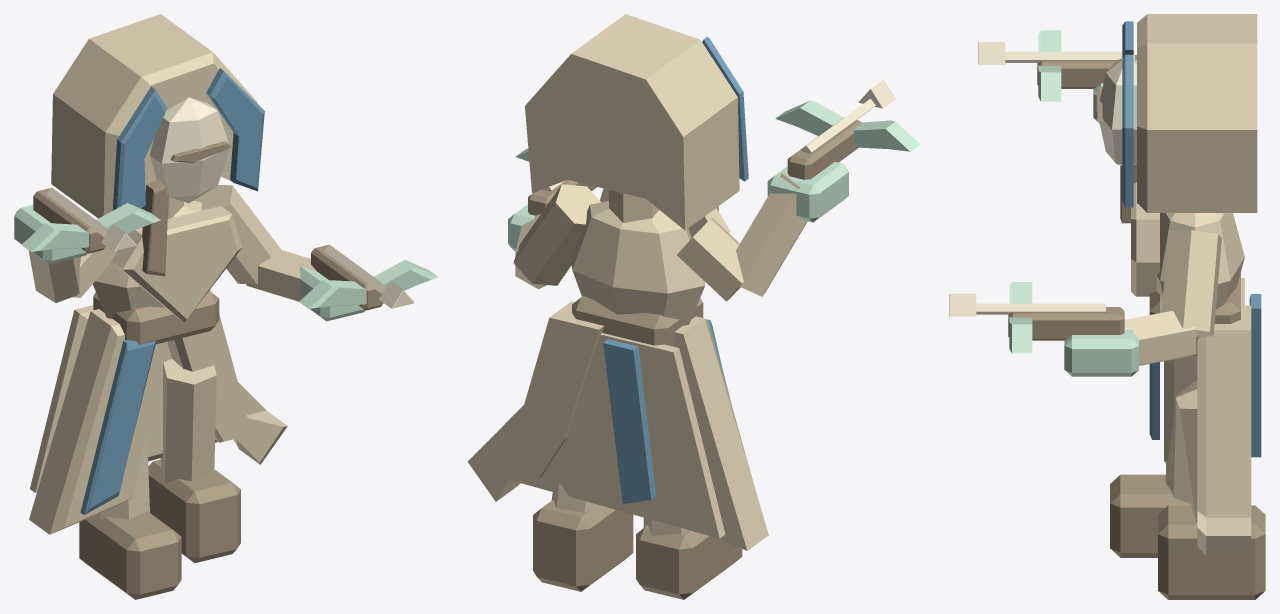
File: blockout-archer.glb
The picture shows the model from 3 angles, left to right: view 1: azimuth 30°, elevation 25°; view 2: azimuth 150°, elevation 25°; view 3: azimuth 270°, elevation 25°; orthographic projection. The views are drawn at different scales.
Parts seen in each view (by area): view 1: Hood, Skirt_L, Bodice, Boot_L.001, Boot_R.001, Leg_R, Skirt_R, Skirt_accent, Face, Hood_green_R, Back_cloth, Hood_green_L (+19 smaller); view 2: Hood, Back_cloth, Torso, Skirt_R, Skirt_L, Boot_R.001, Back_sash, Boot_L.001, Upper_arm_R, Forearm_L, Upper_arm_L, Waist (+9 smaller); view 3: Hood, Skirt_R, Boot_R.001, Upper_arm_R, Boot_L.001, Torso, Cuff_R, Forearm_R, Crossbow_stock_R, Bodice, Face, Hood_green_R (+13 smaller).
Part boxes in pixels (x1=…): Hood: x1=51, y1=14, x2=257, y2=218; Skirt_L: x1=29, y1=309, x2=167, y2=534; Bodice: x1=111, y1=206, x2=242, y2=322; Boot_L.001: x1=79, y1=511, x2=181, y2=599; Boot_R.001: x1=148, y1=459, x2=240, y2=562; Leg_R: x1=160, y1=359, x2=216, y2=483; Skirt_R: x1=167, y1=290, x2=287, y2=464; Skirt_accent: x1=80, y1=340, x2=156, y2=514; Face: x1=150, y1=97, x2=229, y2=203; Hood_green_R: x1=206, y1=68, x2=264, y2=191; Back_cloth: x1=30, y1=305, x2=217, y2=492; Hood_green_L: x1=112, y1=86, x2=166, y2=210; Hood: x1=525, y1=14, x2=739, y2=230; Back_cloth: x1=510, y1=333, x2=725, y2=538; Torso: x1=570, y1=200, x2=705, y2=325; Skirt_R: x1=467, y1=301, x2=604, y2=501; Skirt_L: x1=674, y1=316, x2=768, y2=550; Boot_R.001: x1=533, y1=499, x2=633, y2=591; Back_sash: x1=603, y1=339, x2=656, y2=504; Boot_L.001: x1=636, y1=525, x2=742, y2=599; Upper_arm_R: x1=513, y1=184, x2=600, y2=285; Forearm_L: x1=736, y1=171, x2=807, y2=296; Upper_arm_L: x1=677, y1=218, x2=743, y2=301; Waist: x1=572, y1=296, x2=703, y2=346; Hood: x1=1137, y1=14, x2=1257, y2=212; Skirt_R: x1=1197, y1=305, x2=1251, y2=555; Boot_R.001: x1=1158, y1=505, x2=1265, y2=599; Upper_arm_R: x1=1161, y1=230, x2=1221, y2=336; Boot_L.001: x1=1110, y1=474, x2=1190, y2=557; Torso: x1=1156, y1=213, x2=1244, y2=309; Cuff_R: x1=1064, y1=329, x2=1138, y2=376; Forearm_R: x1=1124, y1=310, x2=1196, y2=365; Crossbow_stock_R: x1=1008, y1=307, x2=1124, y2=340; Bodice: x1=1131, y1=182, x2=1159, y2=296; Face: x1=1099, y1=58, x2=1136, y2=165; Hood_green_R: x1=1122, y1=54, x2=1133, y2=207.
Bounding box in the file's own units: 1.15 × 1.44 × 0.7625.
